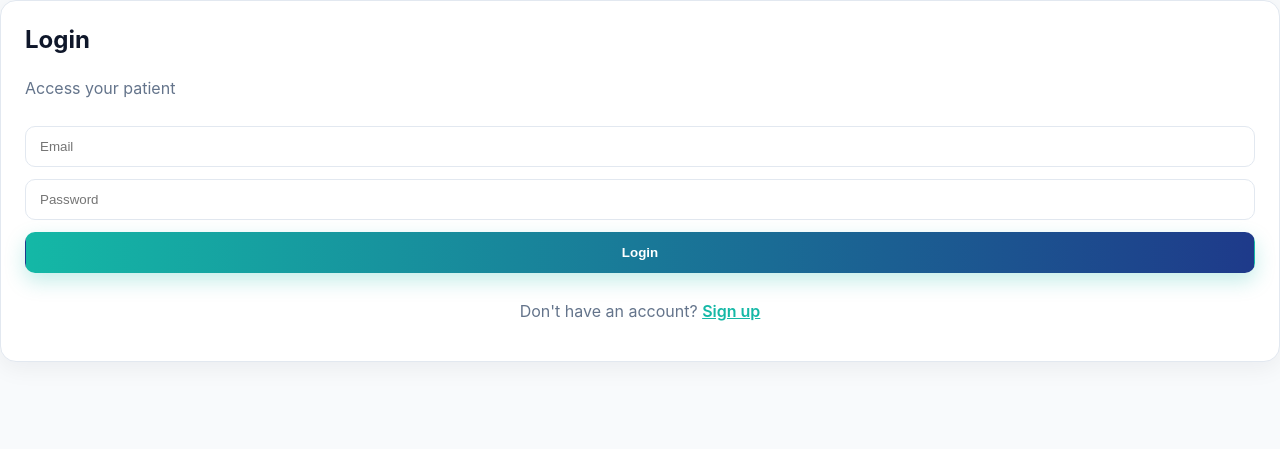
Scenario: Login Form › shows error message when login fails
Type "bad@test.com" into the field with placeholder "Email". click: (640, 146)
box: left=25, top=126, right=1255, bottom=167
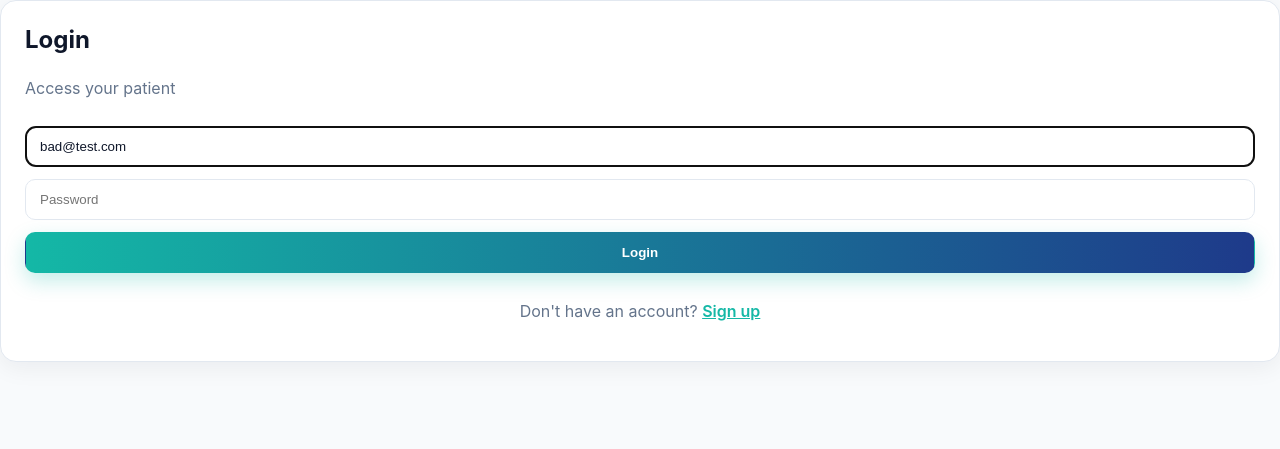
Type "wrongpass" into the password field with placeholder "Password". click: (640, 200)
box: left=25, top=179, right=1255, bottom=220
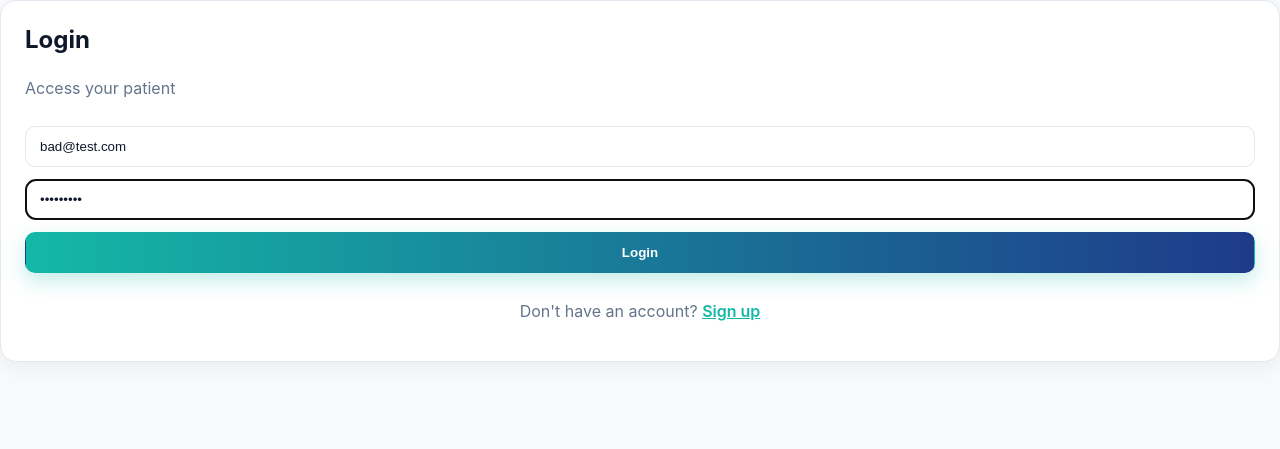
Click the button "Login". click: (640, 252)
box: left=25, top=232, right=1255, bottom=273
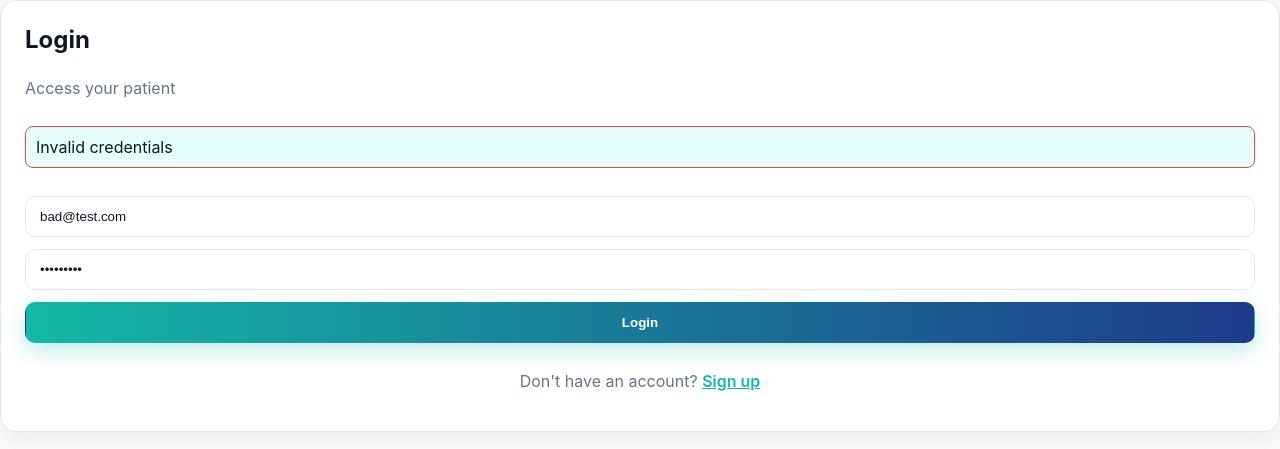
Check: the text "Invalid credentials" is shown, box left=36, top=137, right=173, bottom=157
